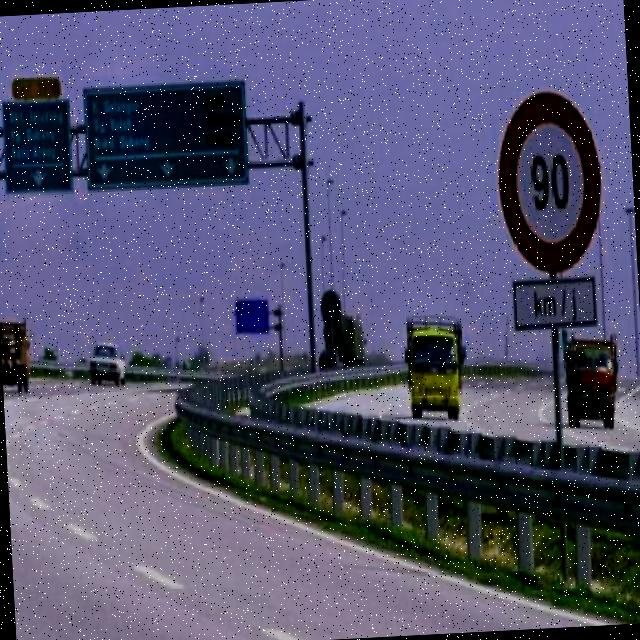Ograniczenie predkosci do 90: (496, 85, 606, 275)
